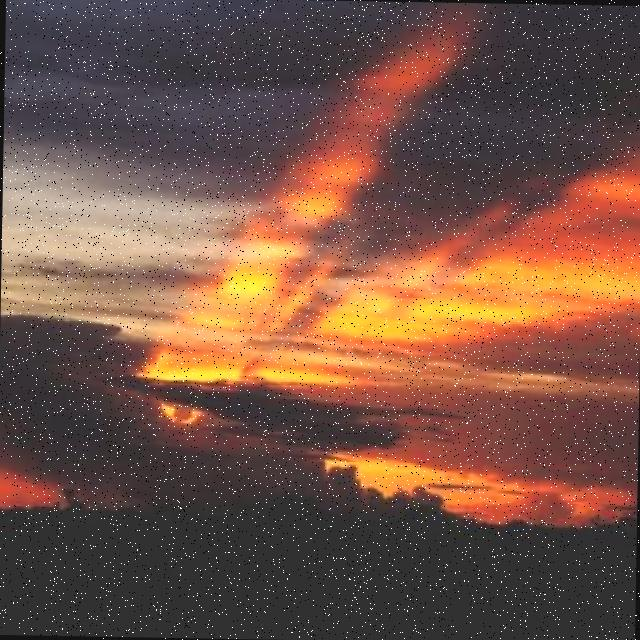Cb: (1, 18, 640, 521)
